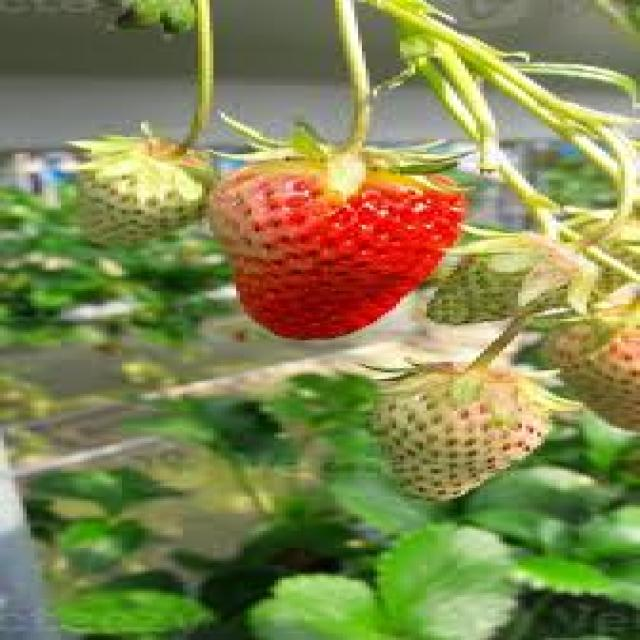immature: (375, 364, 556, 506), (76, 138, 213, 248), (434, 235, 582, 326), (556, 300, 640, 434)
